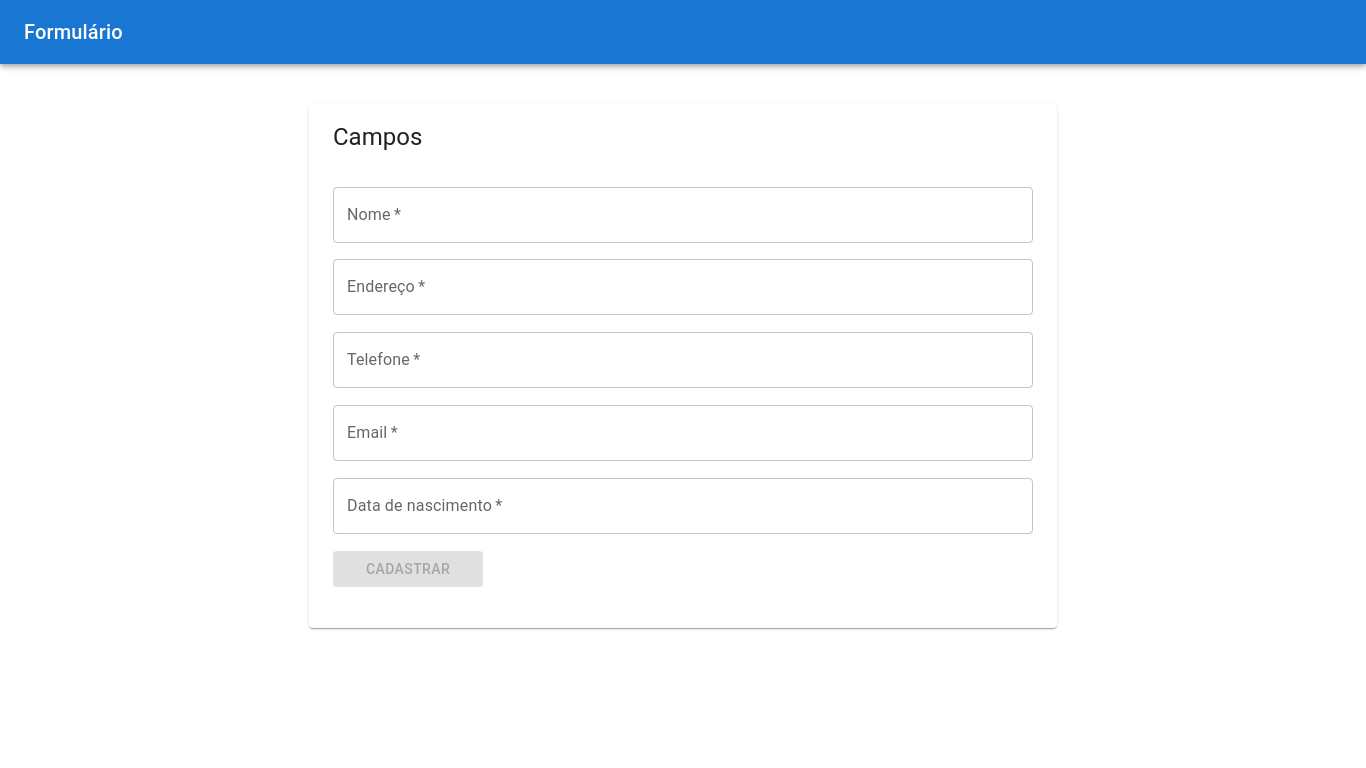
Scenario: Se o nome conter numeros, mostrar error
Note: inserir um valor aos inputs
Type "Mateus Lima 30" into the field labelled "Nome *" at (683, 214), box [333, 186, 1033, 242]
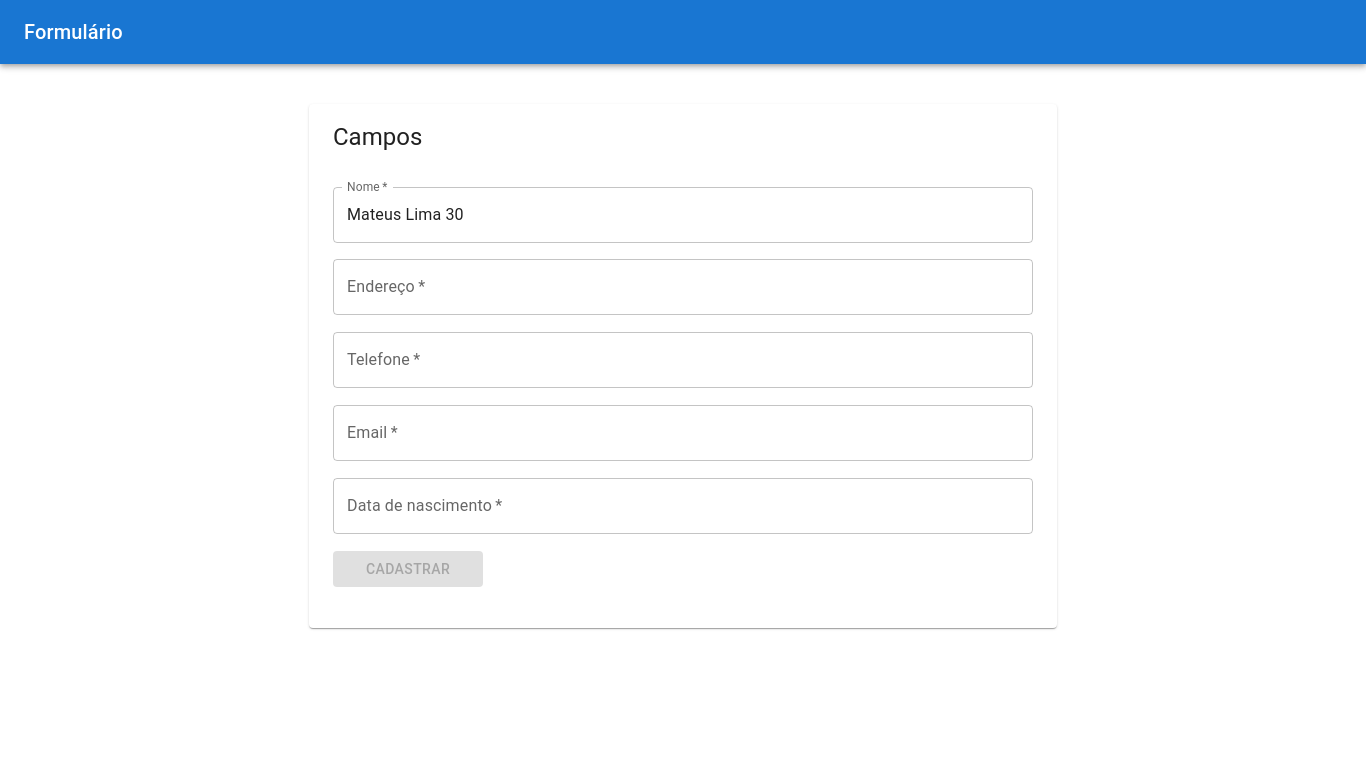
Type "Rua Lima, 23" into the field labelled "Endereço *" at (683, 287), box [333, 259, 1033, 315]
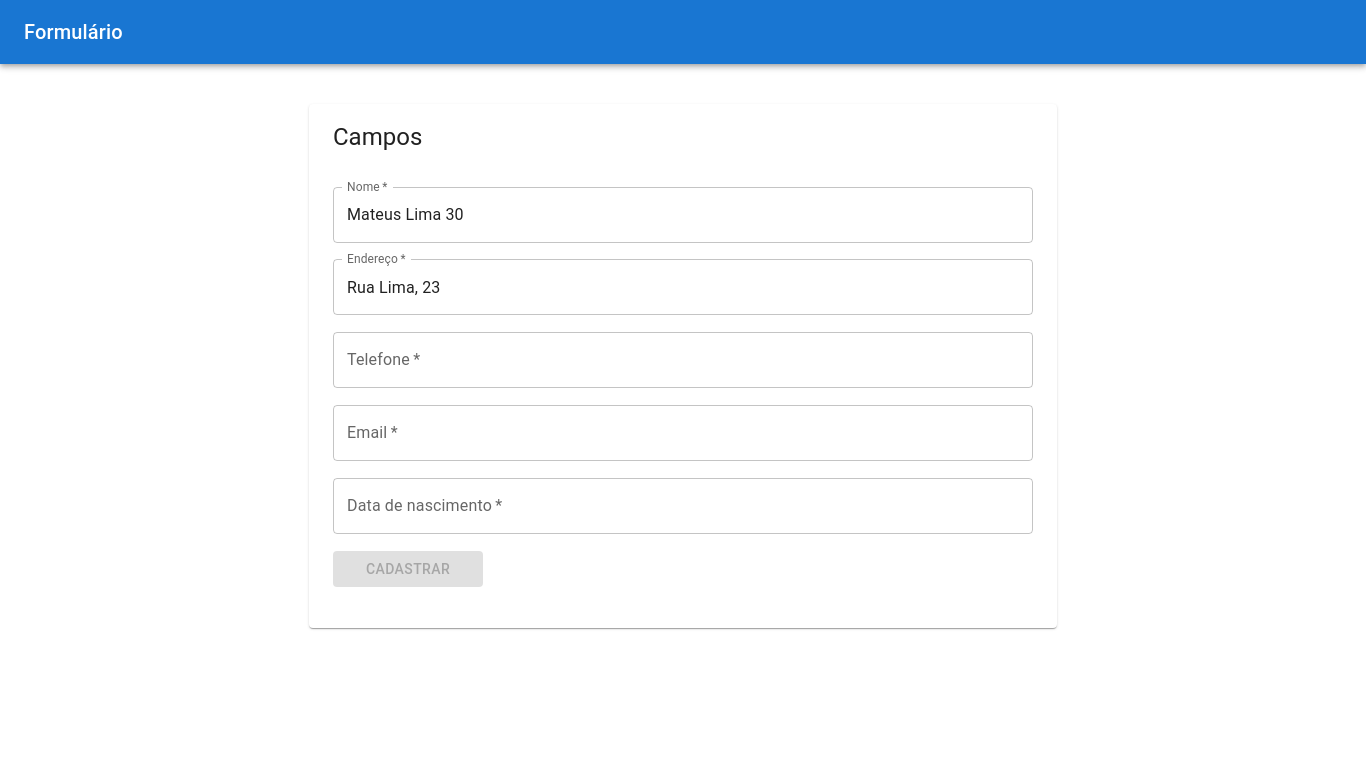
Type "85999999999" into the field labelled "Telefone *" at (683, 360), box [333, 332, 1033, 388]
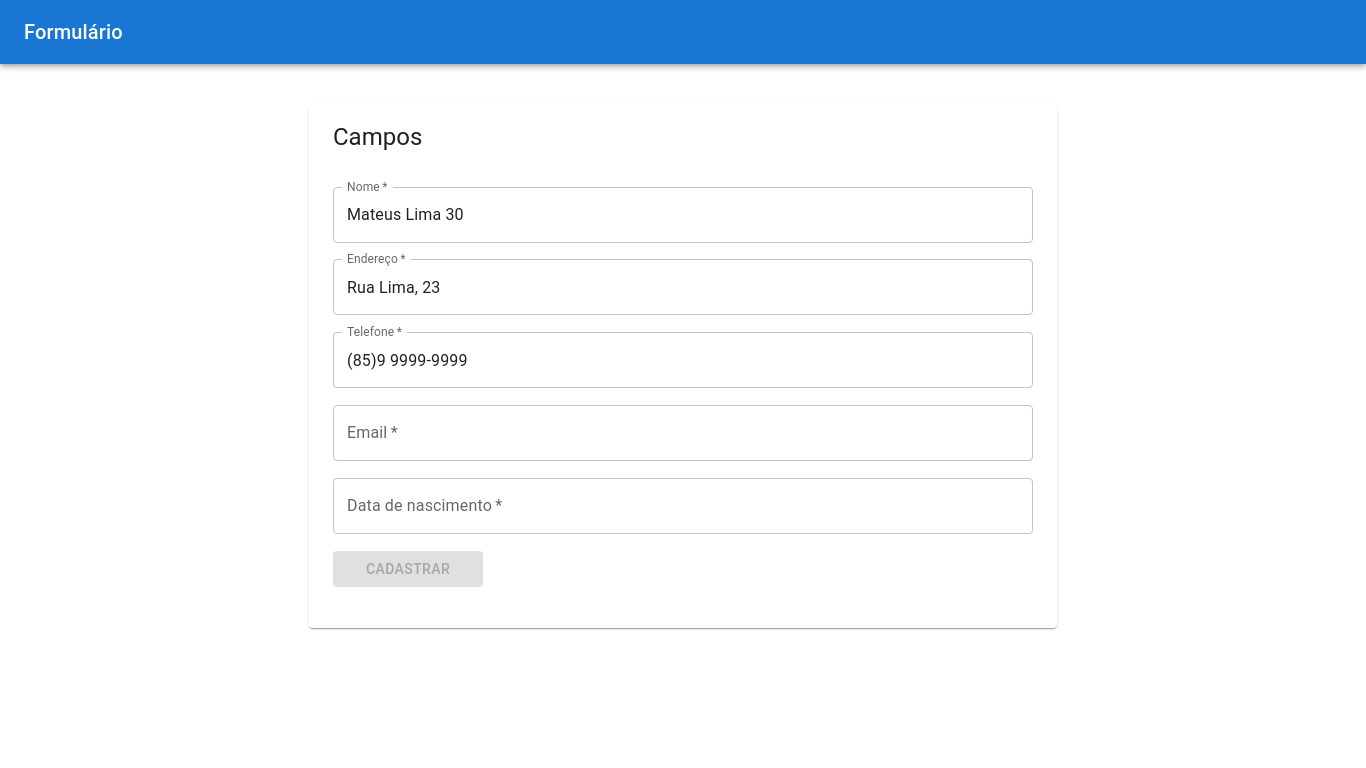
Type "mateus@gmail.com" into the field labelled "Email *" at (683, 433), box [333, 405, 1033, 461]
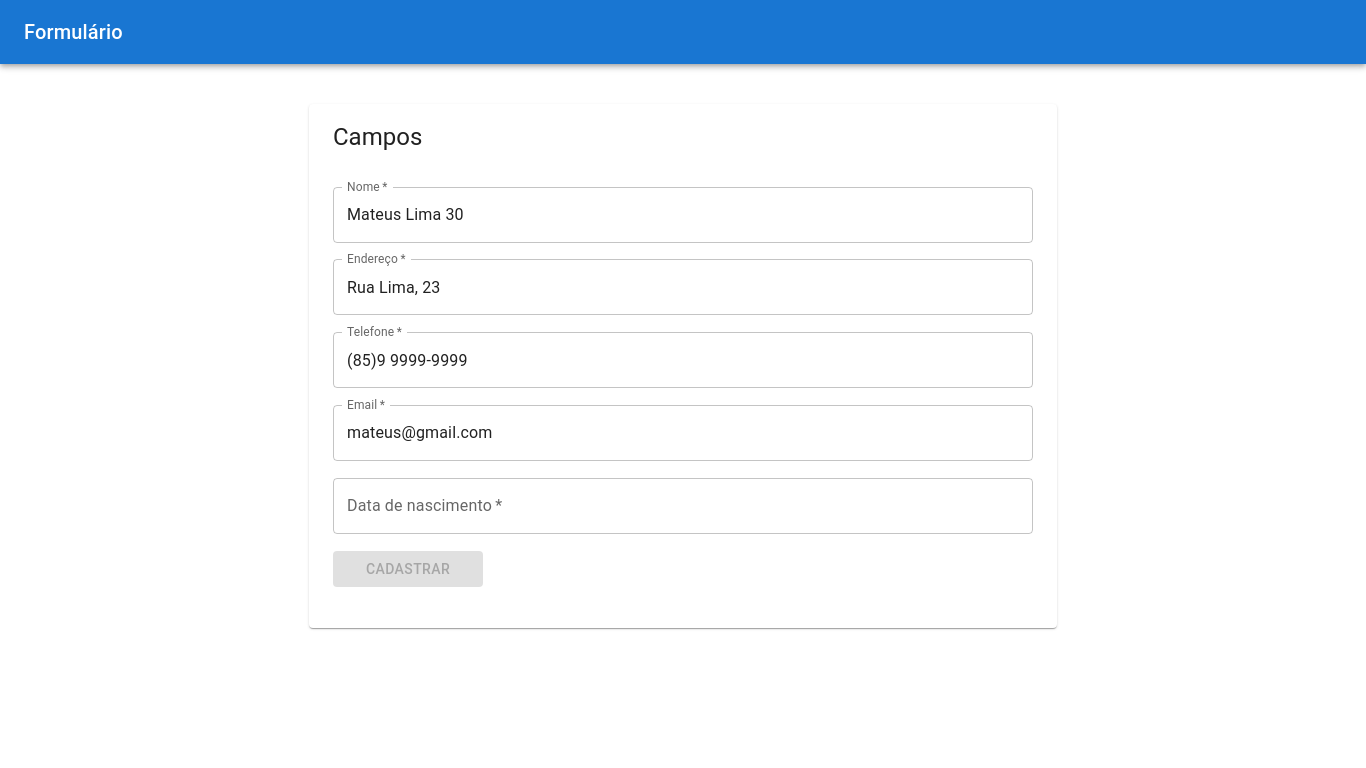
Type "15/02/1996" into the field labelled "Data de nascimento *" at (683, 506), box [333, 478, 1033, 534]
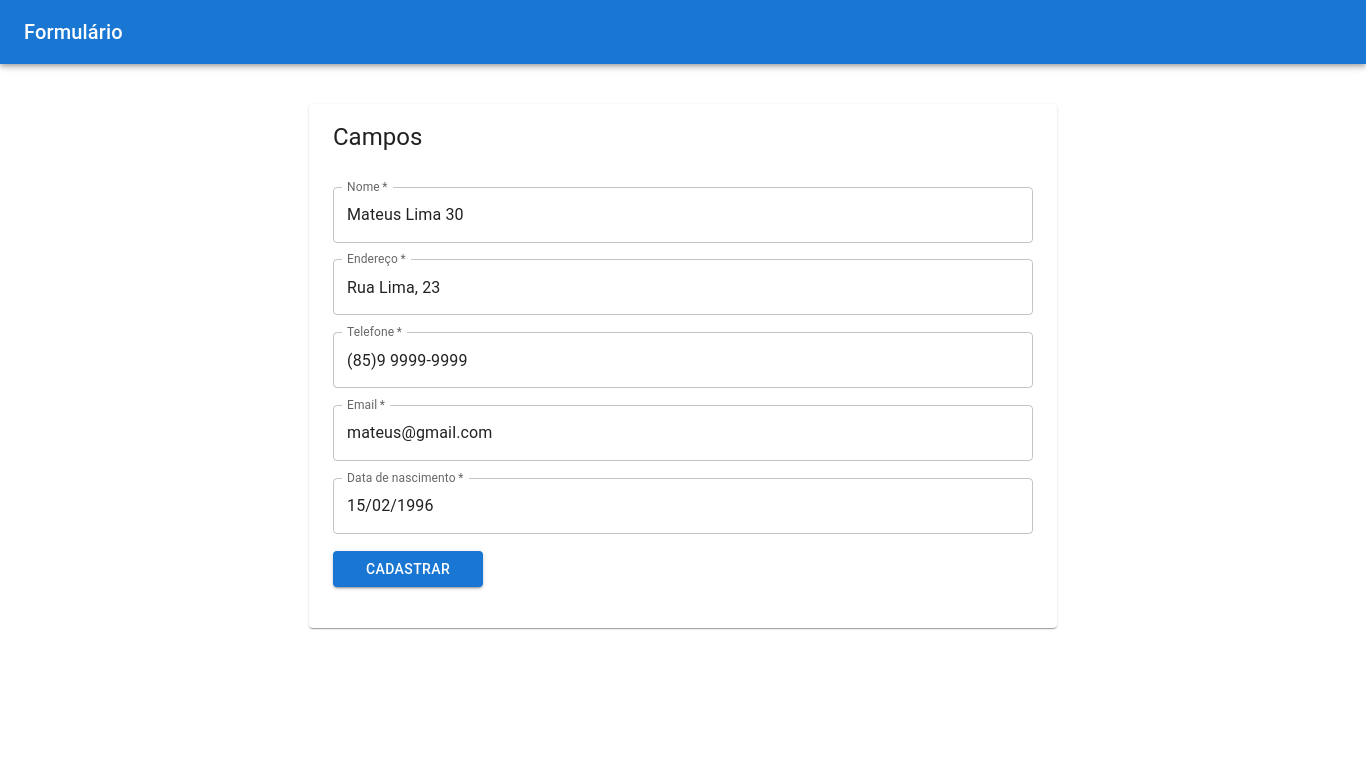
Note: clicar no botão de submeter
Click the button at (408, 569), box [333, 551, 483, 587]
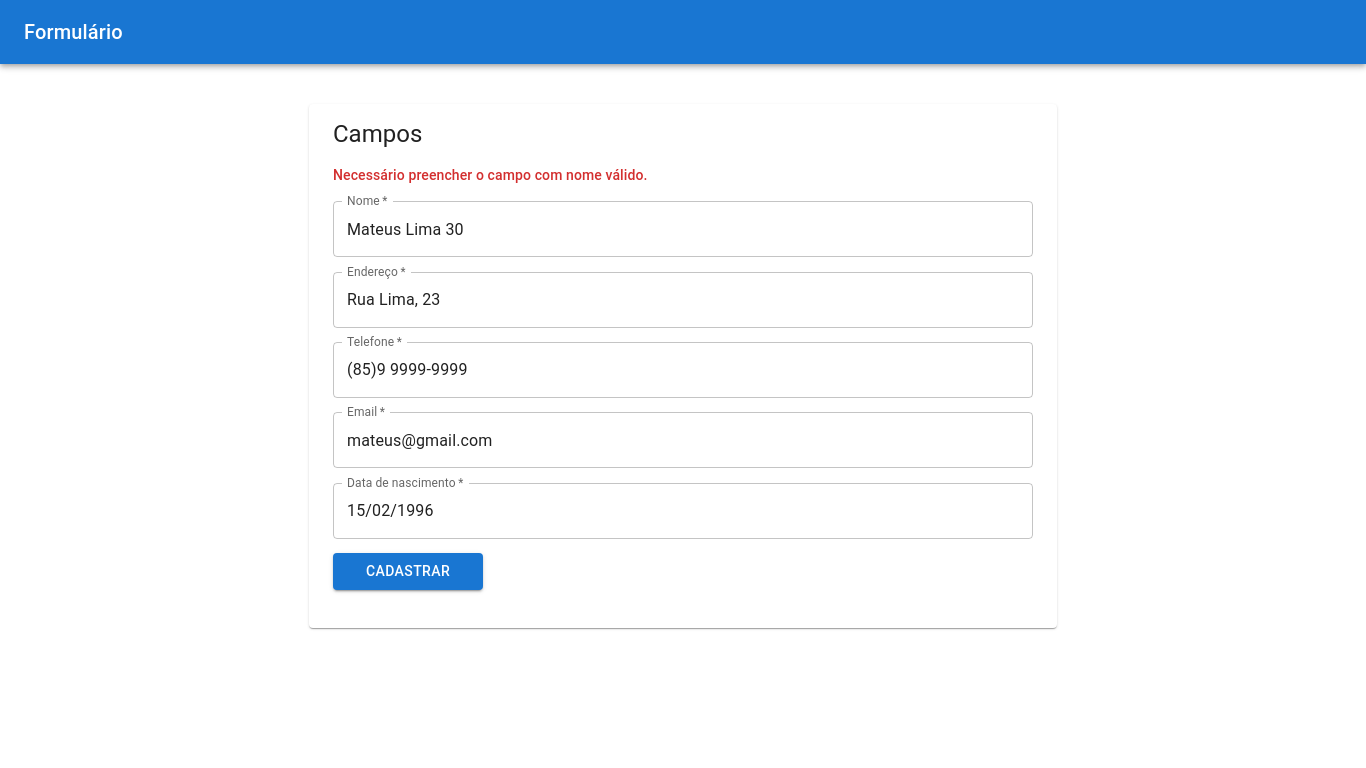
Now the heading "Necessário preencher o campo com nome válido." is shown, box [333, 167, 648, 183]
